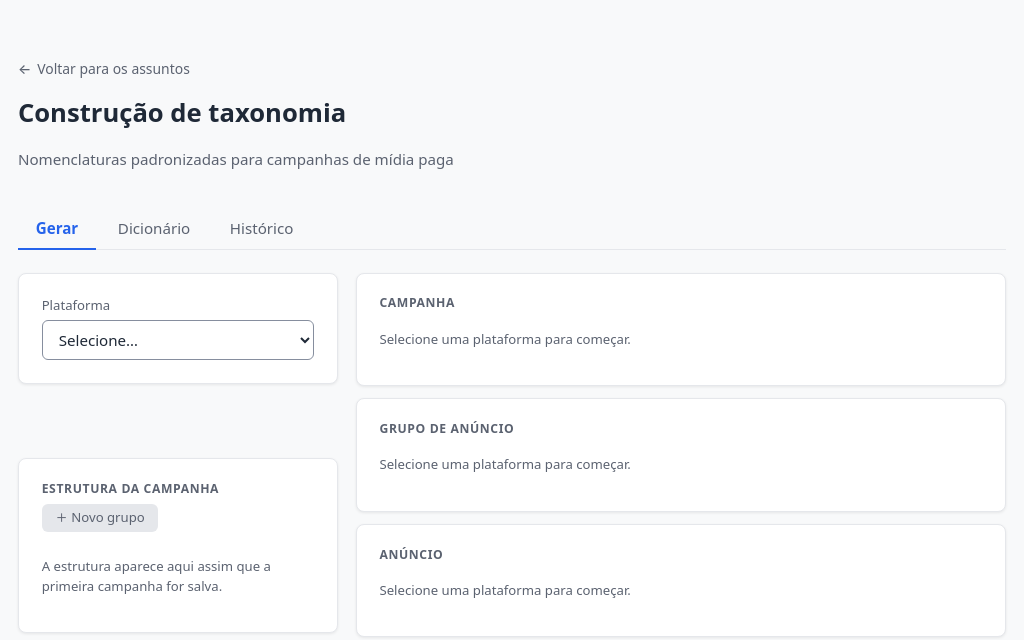
Test: preview ao vivo › exibe o erro do servidor e marca o campo culpado
The image size is (1024, 640).
Select "Meta (FB)" in the dropdown labelled "Plataforma" at {"x": 178, "y": 340}, box [42,320,314,360]
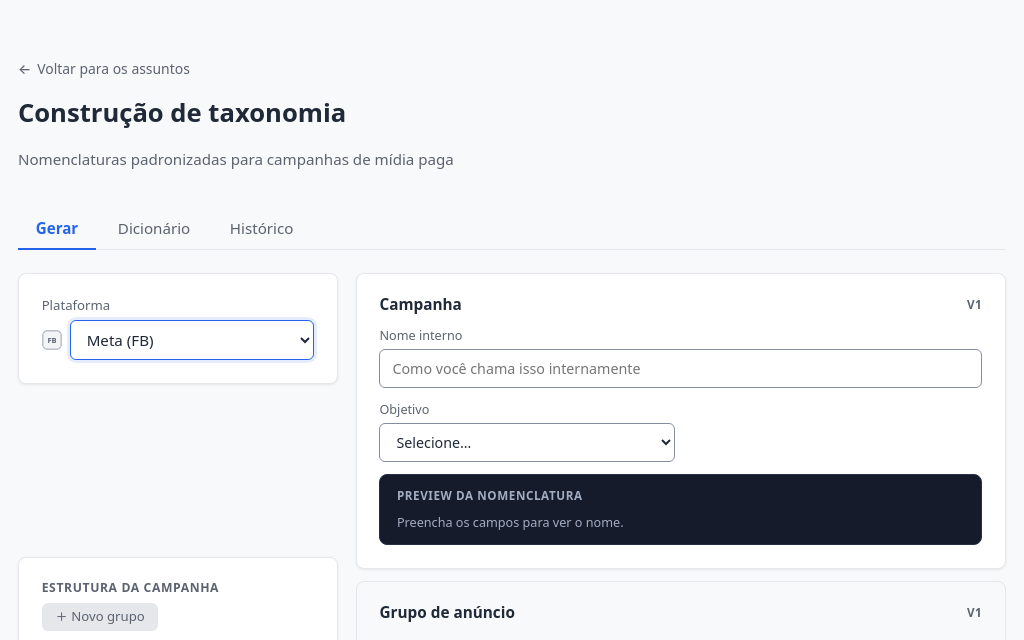
Select "Conversão → CV" in the dropdown labelled "Objetivo" at {"x": 527, "y": 443}, box [380,423,675,462]
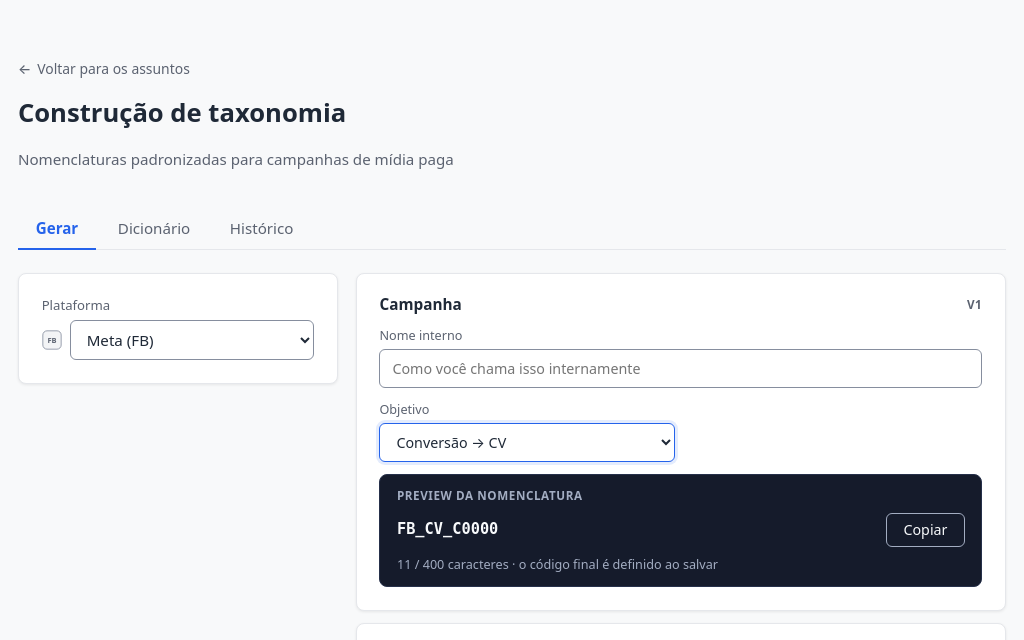
Expected: the text "FB_CV_C0000" is shown, [397,520,498,538]
Select "Tráfego → TRF" in the dropdown labelled "Objetivo" at {"x": 527, "y": 443}, box [380,423,675,462]
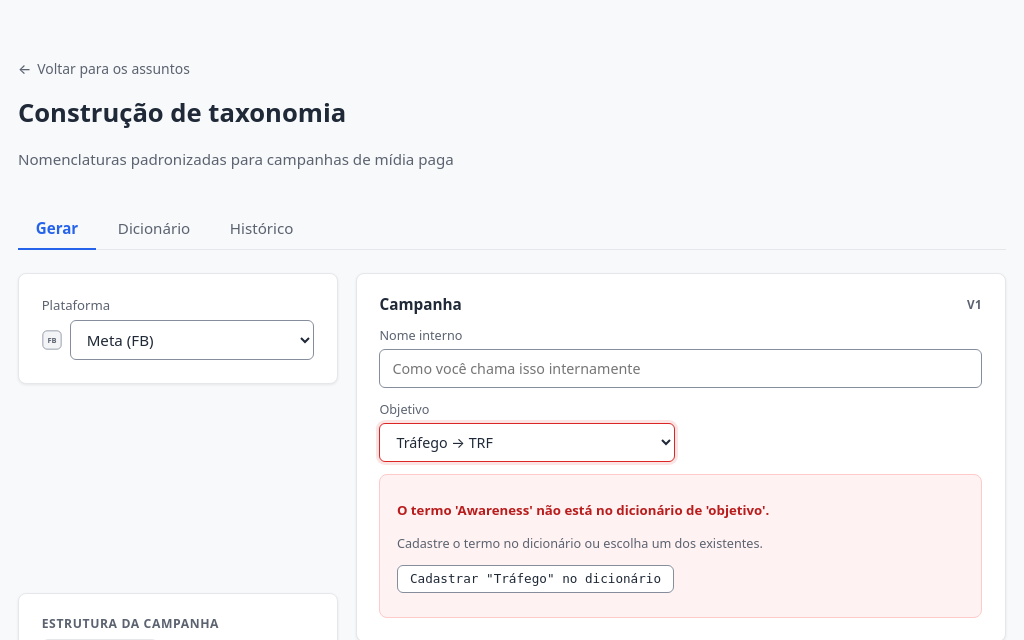
Expected: the message shows "não está no dicionário", [397,501,769,519]
Expected: the text "Cadastre o termo no dicionário ou escolha um dos existentes." is shown, [397,534,763,552]
